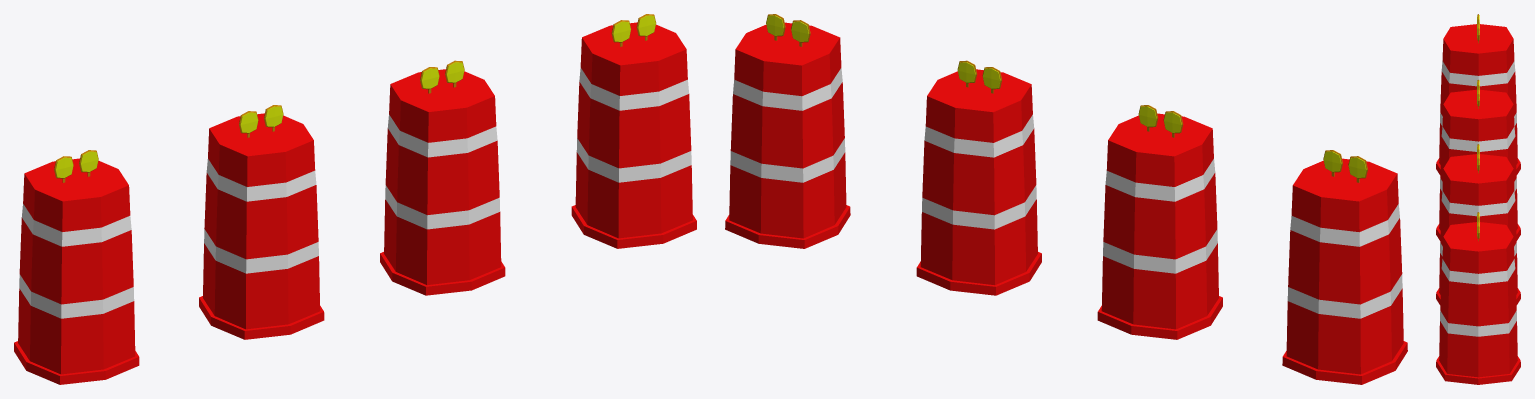
The model's file is Barreira4x.fbx.
3 renders of one model, left to right at view 1: azimuth 30°, elevation 25°; view 2: azimuth 150°, elevation 25°; view 3: azimuth 270°, elevation 25°, orthographic. The views are drawn at different scales.
Visible parts, largest first — view 1: Barreira; view 2: Barreira; view 3: Barreira.
Boxes of the visible parts, left/top/right/bottom form: Barreira: left=14, top=14, right=696, bottom=384; Barreira: left=725, top=14, right=1407, bottom=384; Barreira: left=1436, top=14, right=1520, bottom=384.
Size of the model in its own units: 3.98 by 1.19 by 0.6107.
Materials: 1 (1 with a texture image).
